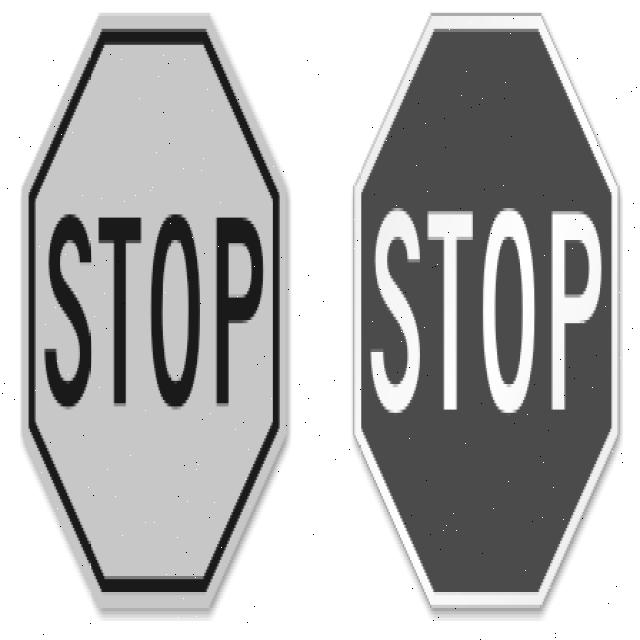Stop-sign: (338, 0, 632, 630)
